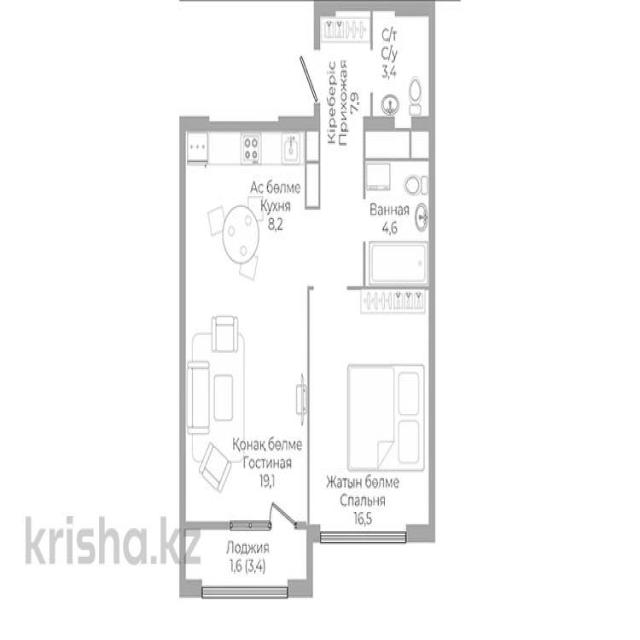balcony: (180, 528, 308, 592)
bathroom: (365, 158, 433, 284), (374, 10, 430, 126)
hallway: (320, 31, 366, 282)
living_room: (312, 291, 434, 538)
studio: (184, 126, 308, 525)
